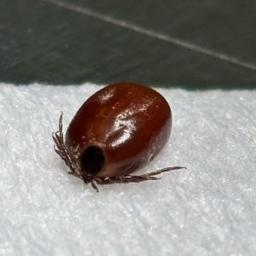Ixodes scapularis: (51, 83, 186, 193)
